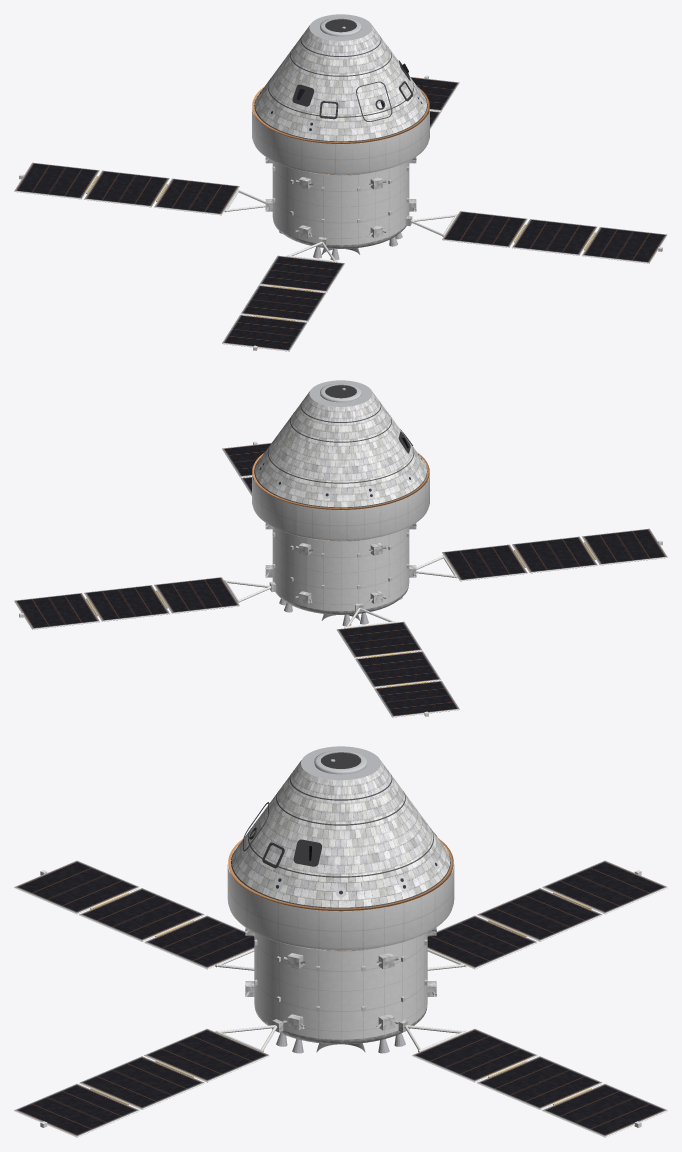
The model's file is orion.glb.
3 renders of one model, top to bottom at view 1: azimuth 30°, elevation 25°; view 2: azimuth 150°, elevation 25°; view 3: azimuth 270°, elevation 25°, orthographic. The views are drawn at different scales.
Visible parts, largest first — view 1: SM__white_panel, CM__cm_tiles, SAW_3_panels__solar, SAW_4_panels__solar, SAW_1_panels__solar, SM__mli_silver, CM__cm_seam, CM__frame_dark, SAW_2_panels__solar, CM__cm_top, SM__copper, SAW_1_panels__yoke (+2 smaller); view 2: SM__white_panel, CM__cm_tiles, SAW_4_panels__solar, SAW_3_panels__solar, SAW_2_panels__solar, SM__mli_silver, SAW_1_panels__solar, CM__cm_seam, CM__cm_top, SM__copper, SAW_2_panels__yoke, SAW_4_panels__yoke (+1 smaller); view 3: SM__white_panel, CM__cm_tiles, SAW_1_panels__solar, SAW_2_panels__solar, SAW_3_panels__solar, SAW_4_panels__solar, SM__mli_silver, CM__cm_seam, CM__frame_dark, CM__cm_top, SM__copper, SM__thruster (+5 smaller).
Part boxes in pixels (<box>): SM__white_panel: <box>252,110,429,245</box>; CM__cm_tiles: <box>255,25,426,141</box>; SAW_3_panels__solar: <box>15,162,239,214</box>; SAW_4_panels__solar: <box>222,255,344,350</box>; SAW_1_panels__solar: <box>442,211,666,262</box>; SM__mli_silver: <box>265,157,416,248</box>; CM__cm_seam: <box>254,36,427,142</box>; CM__frame_dark: <box>292,19,413,119</box>; SAW_2_panels__solar: <box>410,77,459,128</box>; CM__cm_top: <box>309,14,372,40</box>; SM__copper: <box>252,87,429,174</box>; SAW_1_panels__yoke: <box>442,211,667,263</box>; SM__white_panel: <box>252,476,429,611</box>; CM__cm_tiles: <box>255,391,426,507</box>; SAW_4_panels__solar: <box>442,528,666,580</box>; SAW_3_panels__solar: <box>337,621,459,716</box>; SAW_2_panels__solar: <box>15,577,239,628</box>; SM__mli_silver: <box>265,523,416,614</box>; SAW_1_panels__solar: <box>222,443,271,494</box>; CM__cm_seam: <box>254,402,427,508</box>; CM__cm_top: <box>309,380,372,406</box>; SM__copper: <box>252,453,429,540</box>; SAW_2_panels__yoke: <box>14,577,239,629</box>; SAW_4_panels__yoke: <box>442,529,667,581</box>; SM__white_panel: <box>227,864,454,1039</box>; CM__cm_tiles: <box>231,760,450,907</box>; SAW_1_panels__solar: <box>15,1029,268,1136</box>; SAW_2_panels__solar: <box>413,1029,666,1136</box>; SAW_3_panels__solar: <box>427,860,666,968</box>; SAW_4_panels__solar: <box>15,860,254,968</box>; SM__mli_silver: <box>245,927,436,1044</box>; CM__cm_seam: <box>231,775,450,908</box>; CM__frame_dark: <box>249,752,360,868</box>; CM__cm_top: <box>301,746,380,780</box>; SM__copper: <box>228,838,453,950</box>; SM__thruster: <box>245,929,436,1053</box>.
Size of the model in its own units: 14.78 by 7.35 by 14.78.
Materials: 20 (6 with a texture image).
